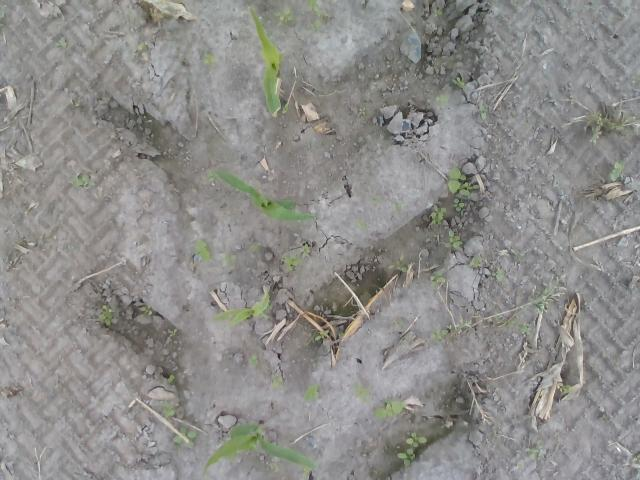Maize: (204, 421, 318, 472), (218, 167, 314, 221), (248, 6, 282, 114), (212, 286, 270, 326)
Weeds: (447, 166, 479, 212), (395, 432, 428, 466), (281, 243, 312, 272), (306, 0, 328, 32), (588, 110, 608, 144), (372, 398, 406, 417), (174, 426, 198, 450), (272, 5, 296, 26), (535, 287, 554, 313), (66, 174, 98, 189), (96, 304, 114, 328), (607, 159, 625, 182), (195, 239, 213, 262), (388, 255, 408, 274), (448, 227, 463, 250), (303, 383, 321, 401), (352, 383, 369, 402), (200, 49, 218, 65), (448, 71, 464, 89), (132, 39, 154, 52), (160, 400, 176, 417), (431, 270, 448, 286), (270, 376, 286, 392), (352, 218, 368, 234), (431, 208, 446, 224), (557, 382, 577, 394), (431, 328, 448, 342), (208, 168, 223, 182), (492, 266, 505, 282), (221, 253, 237, 266), (518, 322, 532, 336), (512, 250, 528, 262), (0, 0, 9, 20), (480, 104, 490, 122), (371, 192, 383, 206), (140, 304, 154, 316), (248, 242, 262, 254), (312, 330, 328, 340), (607, 120, 623, 130), (470, 254, 481, 268), (436, 95, 449, 106), (392, 202, 402, 216), (55, 34, 65, 48), (248, 352, 256, 368), (631, 70, 640, 84), (528, 446, 539, 457), (166, 373, 176, 385), (68, 100, 82, 108), (270, 463, 281, 473), (432, 7, 444, 16), (279, 103, 289, 113), (257, 15, 267, 24), (392, 320, 401, 330), (504, 320, 515, 328), (633, 452, 640, 464), (304, 465, 311, 476), (167, 328, 176, 336), (496, 314, 506, 321), (335, 329, 344, 336), (359, 107, 366, 116), (464, 320, 472, 327), (233, 160, 240, 164)
